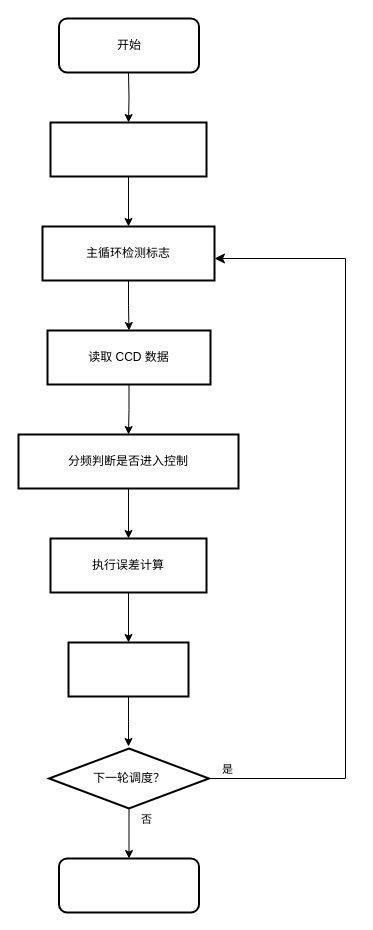
Some shapes in this 373 by 930 pixel diagram are drawn without their labels. The shapes that lost their labels are listed below. From the top down, each one's box as (x1, y1, x2, y2) in pixels, then its label:
(49, 121, 207, 177): 置位采样标志
(67, 641, 189, 697): PID 计算
(58, 857, 200, 913): 结束
